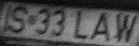3: (50, 7, 67, 38), (34, 8, 51, 36)
A: (89, 9, 111, 43)
I: (1, 3, 11, 33)
L: (72, 7, 89, 40)
S: (10, 5, 28, 34)
W: (114, 10, 137, 45)
